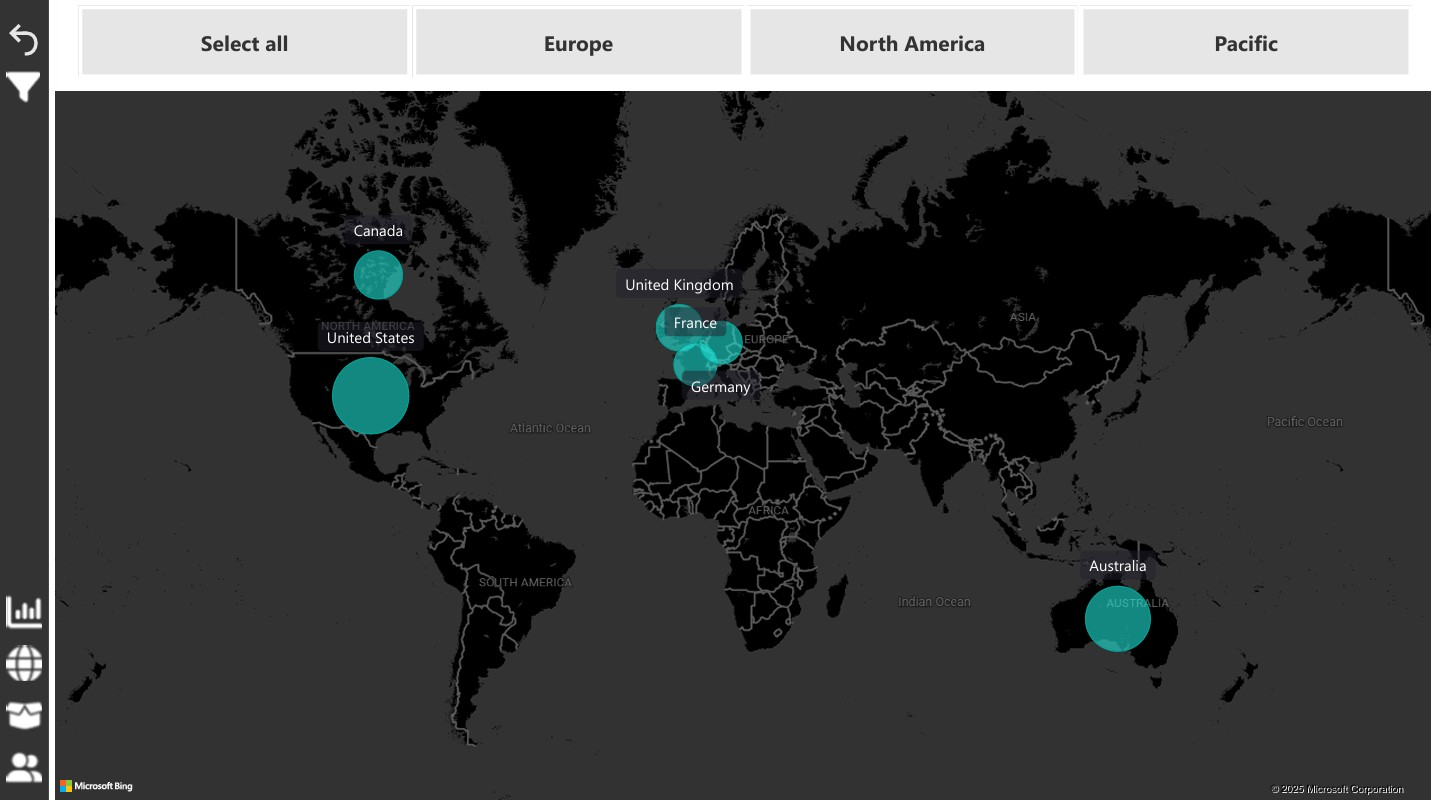

The dashboard page shown, as its layout file describes it:
{"tool":"powerbi","page":{"name":"Map","canvas":[1280,720],"ordinal":1},"visuals":[{"type":"shape","box":[0,0,45,720],"z":0},{"type":"map","fields":{"Category":["Territory Lookup.Country"],"Size":["Measure Table.Total Orders"]},"box":[45,78.3,1235,641.7],"z":1000},{"type":"actionButton","box":[2.5,617.9,40,40],"z":1000,"group":"g1"},{"type":"actionButton","box":[2.5,526.2,40,40],"z":2000,"group":"g1"},{"type":"slicer","fields":{"Values":["Territory Lookup.Continent"]},"box":[45,0,1235,78.3],"z":2000},{"type":"actionButton","box":[2.5,663.7,40,40],"z":3000,"group":"g1"},{"type":"group","id":"g1","title":"Nav Buttons","box":[2.5,526.2,40,177.5],"z":3000},{"type":"actionButton","box":[2.5,572,40,40],"z":4000,"group":"g1"},{"type":"actionButton","box":[3.4,59,37.6,39.3],"z":4000},{"type":"actionButton","box":[2.9,17.1,37.6,39.4],"z":5000}]}

Visuals, with their boxes on the page's 1280x720 design canvas (x1, y1, x2, y2). These are canvas units, not pixel positions in the 1431x800 screenshot, which may show the page scaled, cropped or inside an application window:
shape: [x1=0, y1=0, x2=45, y2=720]
map - Territory Lookup.Country x Measure Table.Total Orders: [x1=45, y1=78, x2=1280, y2=720]
actionButton: [x1=2, y1=618, x2=42, y2=658]
actionButton: [x1=2, y1=526, x2=42, y2=566]
slicer - Territory Lookup.Continent: [x1=45, y1=0, x2=1280, y2=78]
actionButton: [x1=2, y1=664, x2=42, y2=704]
"Nav Buttons" group: [x1=2, y1=526, x2=42, y2=704]
actionButton: [x1=2, y1=572, x2=42, y2=612]
actionButton: [x1=3, y1=59, x2=41, y2=98]
actionButton: [x1=3, y1=17, x2=40, y2=56]
